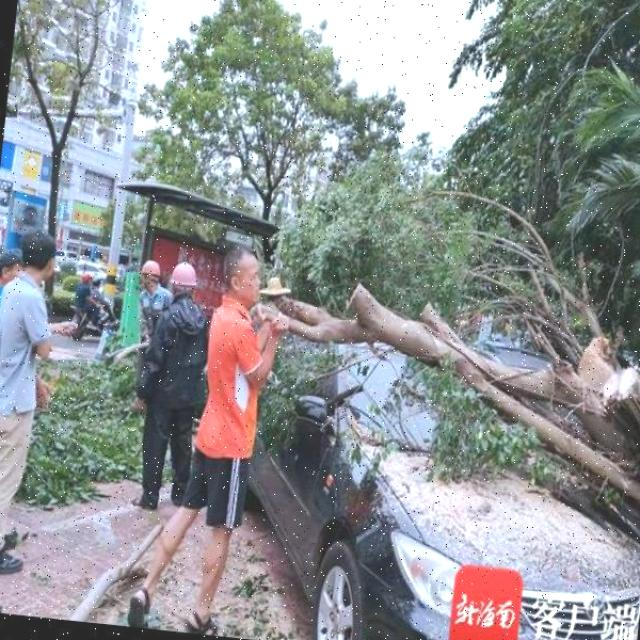fallen_object: (238, 264, 640, 458)
